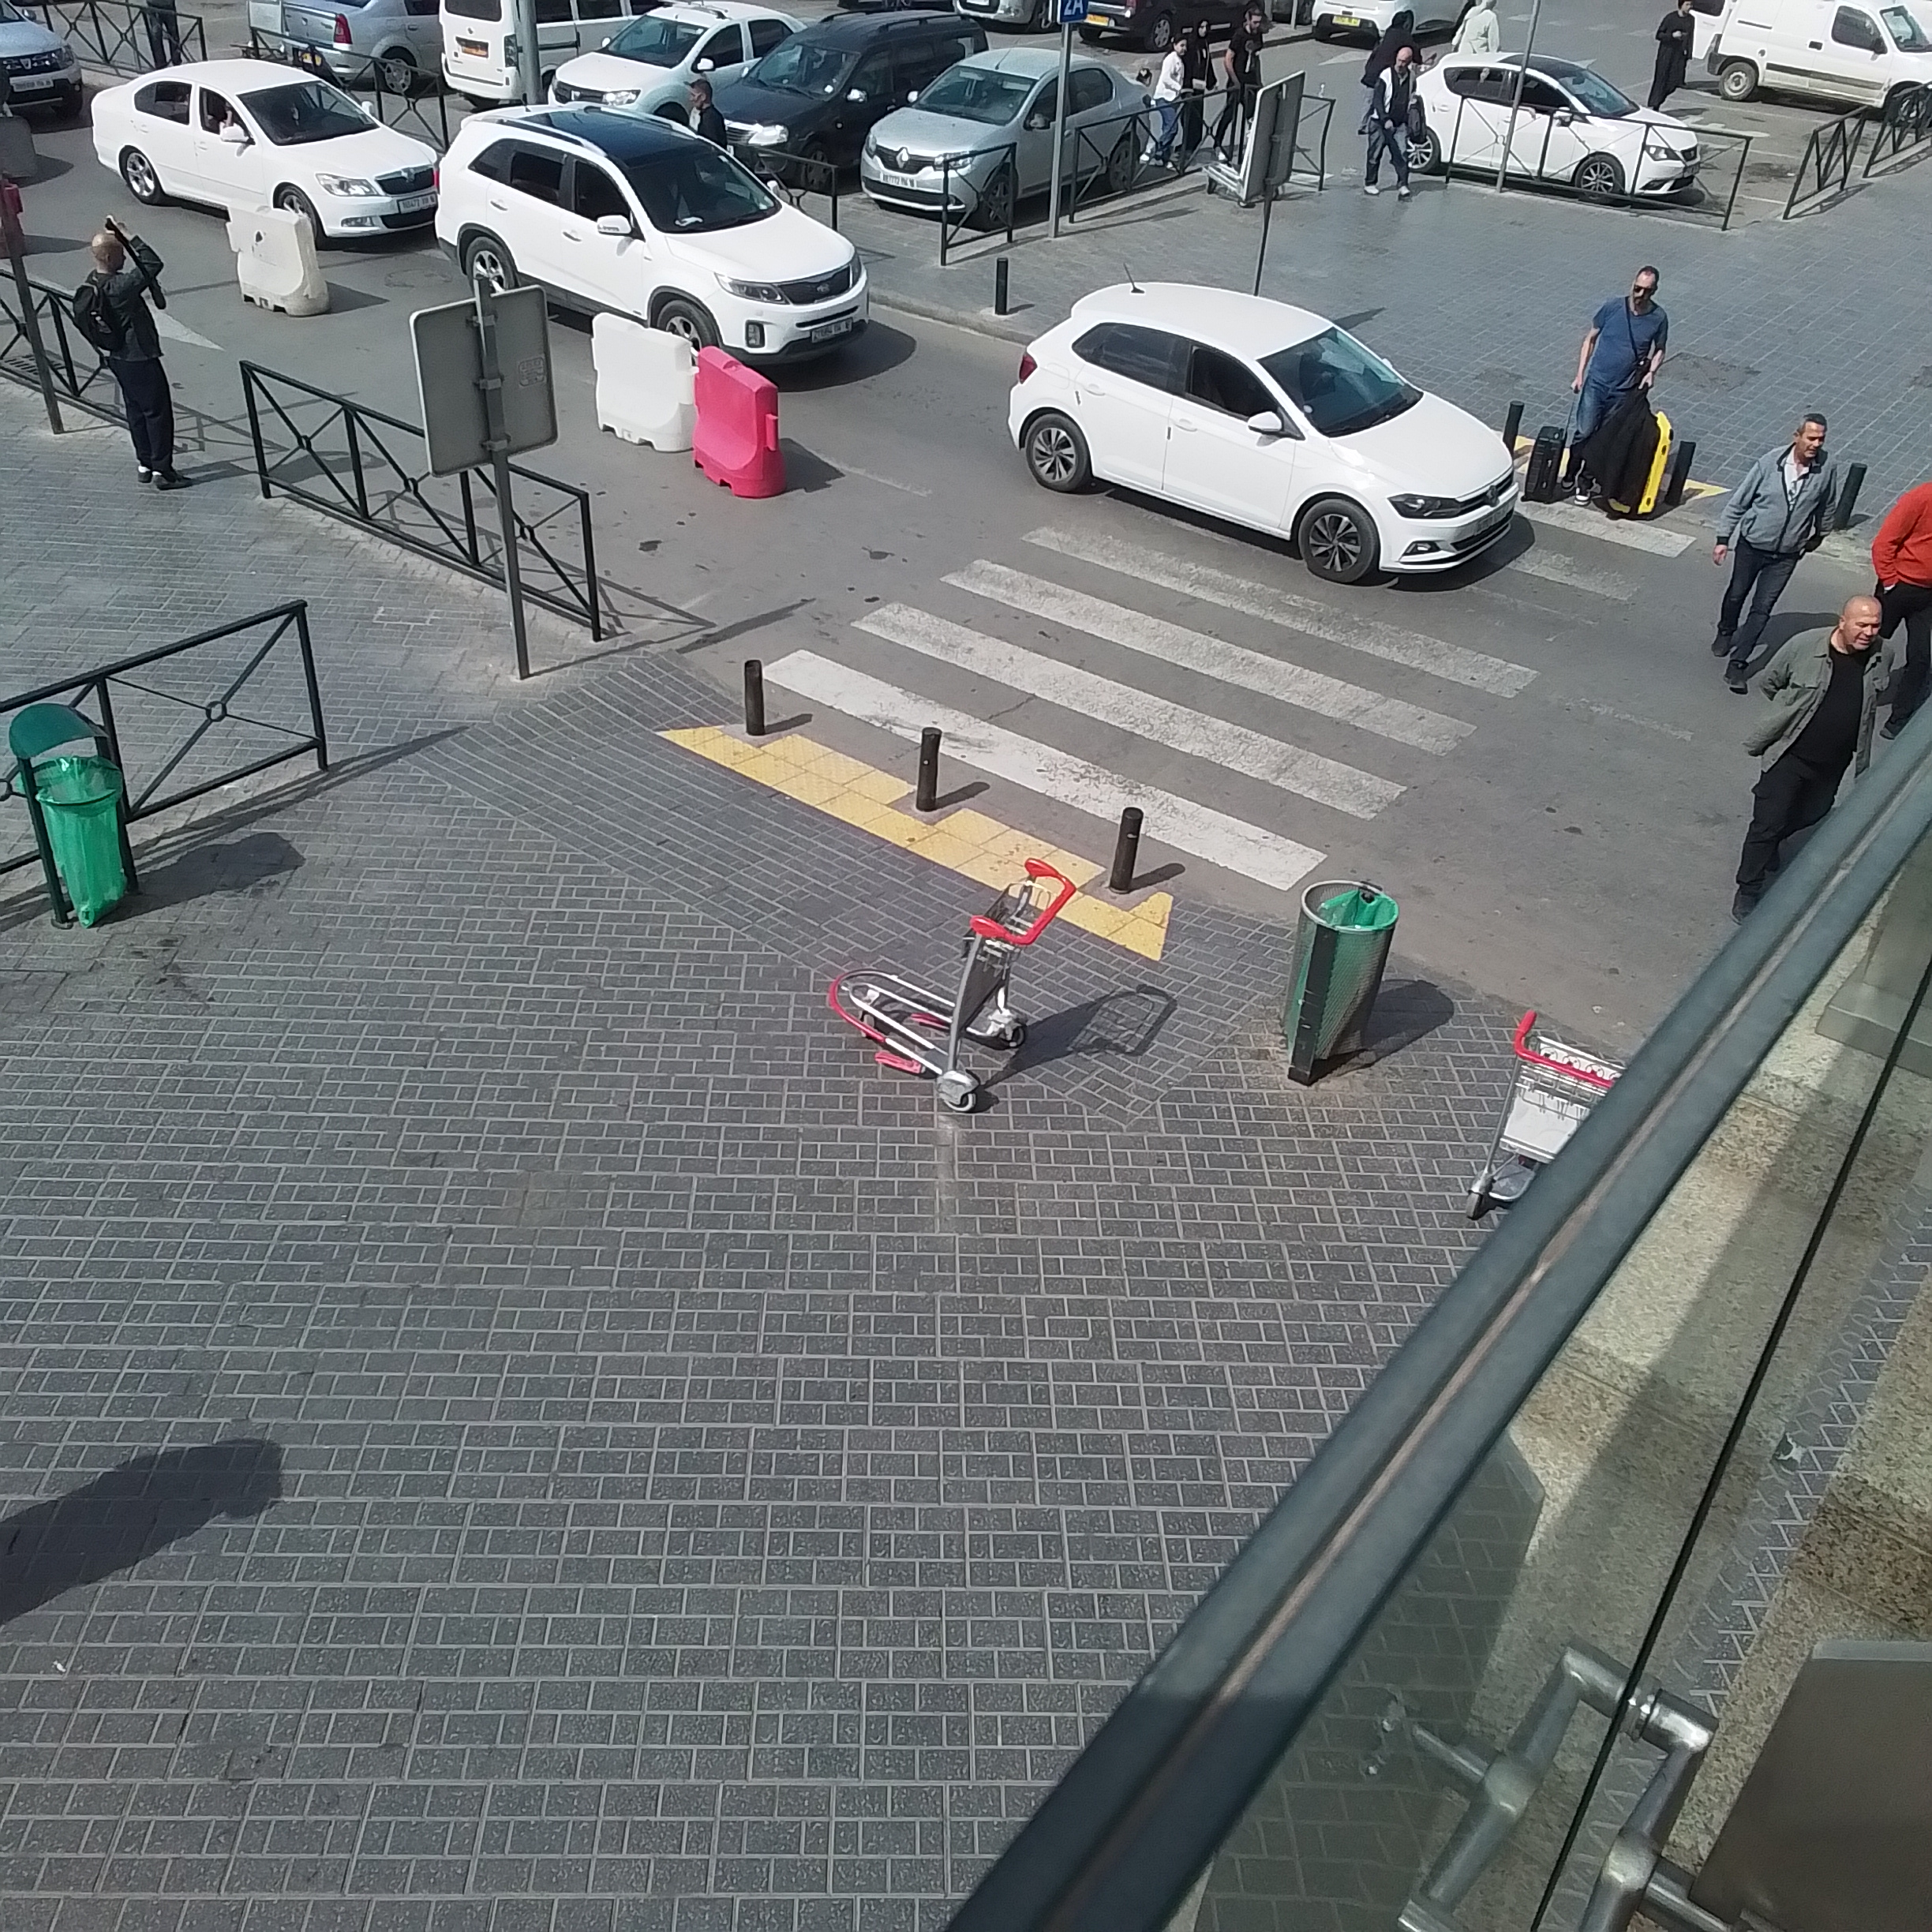airport-trolley: (839, 847, 1072, 1111), (1474, 1012, 1612, 1184)
